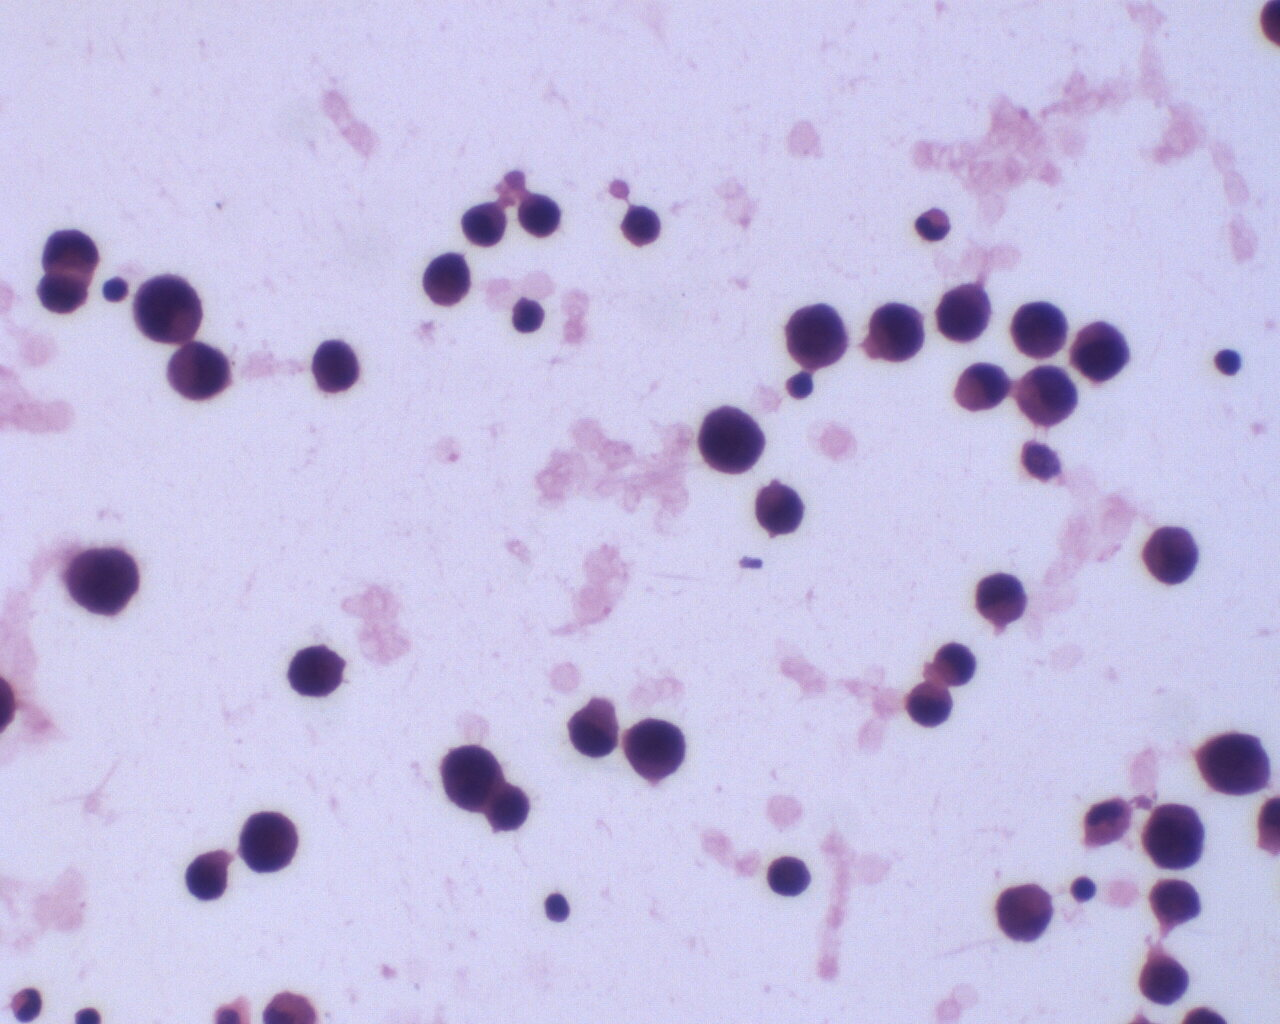ab: (63, 542, 140, 621), (697, 397, 768, 480), (779, 295, 851, 375), (1197, 727, 1274, 800), (1136, 800, 1208, 875), (132, 270, 203, 345), (162, 336, 238, 405), (438, 742, 505, 815), (622, 714, 690, 785), (1139, 517, 1205, 590), (1014, 364, 1083, 430), (1008, 293, 1074, 362), (239, 808, 299, 878), (1073, 318, 1134, 382), (1131, 947, 1196, 1006), (933, 279, 993, 345), (867, 301, 927, 366), (285, 642, 349, 700), (308, 335, 363, 397), (422, 248, 473, 310), (1146, 876, 1207, 927), (752, 481, 805, 537), (34, 269, 90, 315), (459, 196, 508, 247), (515, 192, 563, 240)
lymph: (1066, 868, 1100, 906), (540, 891, 573, 930), (1215, 345, 1246, 380)
neutro: (914, 203, 958, 245)
